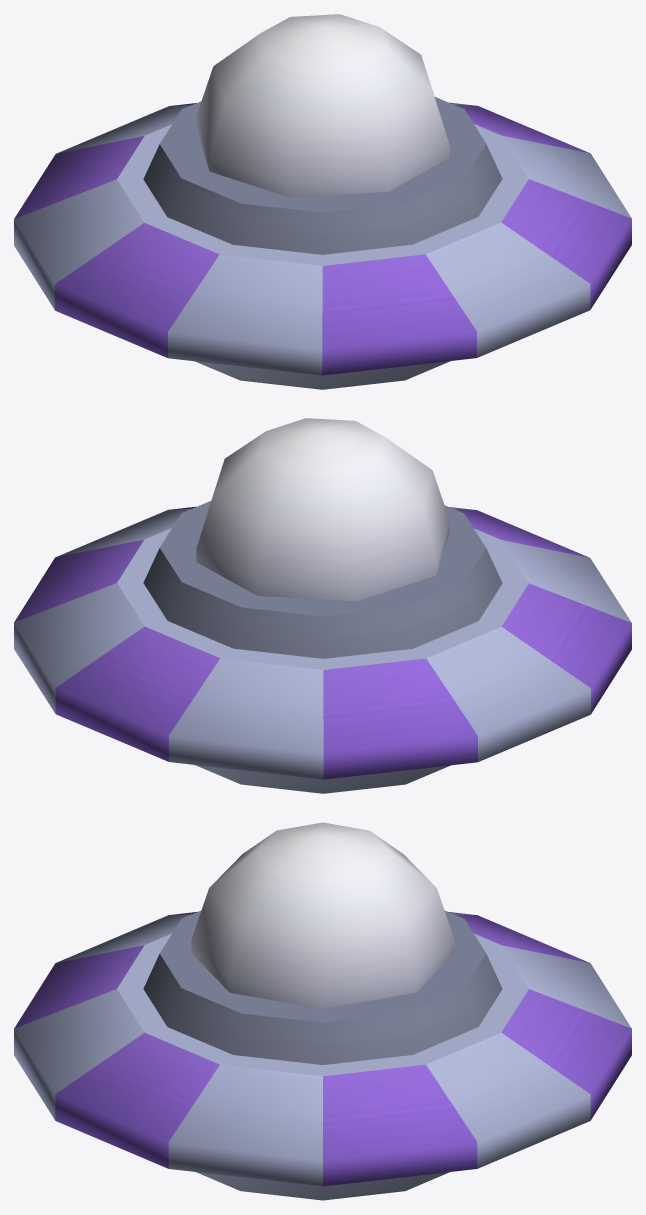
Rendered from kenney-tower-defense-enemy-ufo-c.glb.
3 renders of one model, top to bottom at view 1: azimuth 30°, elevation 25°; view 2: azimuth 150°, elevation 25°; view 3: azimuth 270°, elevation 25°, orthographic.
Visible parts, largest first — view 1: enemy-ufo-c; view 2: enemy-ufo-c; view 3: enemy-ufo-c.
Part boxes in pixels (x1,y1,x2,y2): enemy-ufo-c: [14, 14, 631, 389]; enemy-ufo-c: [14, 418, 631, 793]; enemy-ufo-c: [14, 822, 631, 1200].
Bounding box in the file's own units: 1 × 0.5254 × 1.
Materials: 1 (1 with a texture image).
